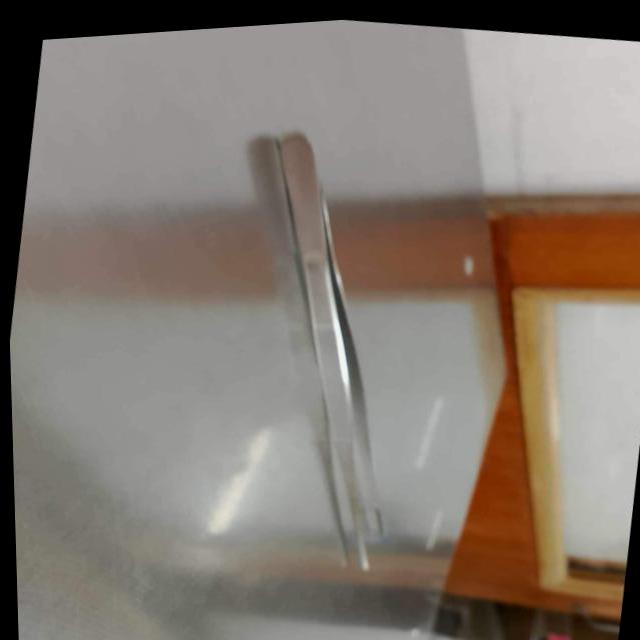General: (5, 16, 639, 638), (14, 189, 509, 573)
Sharps: (271, 132, 386, 572)
